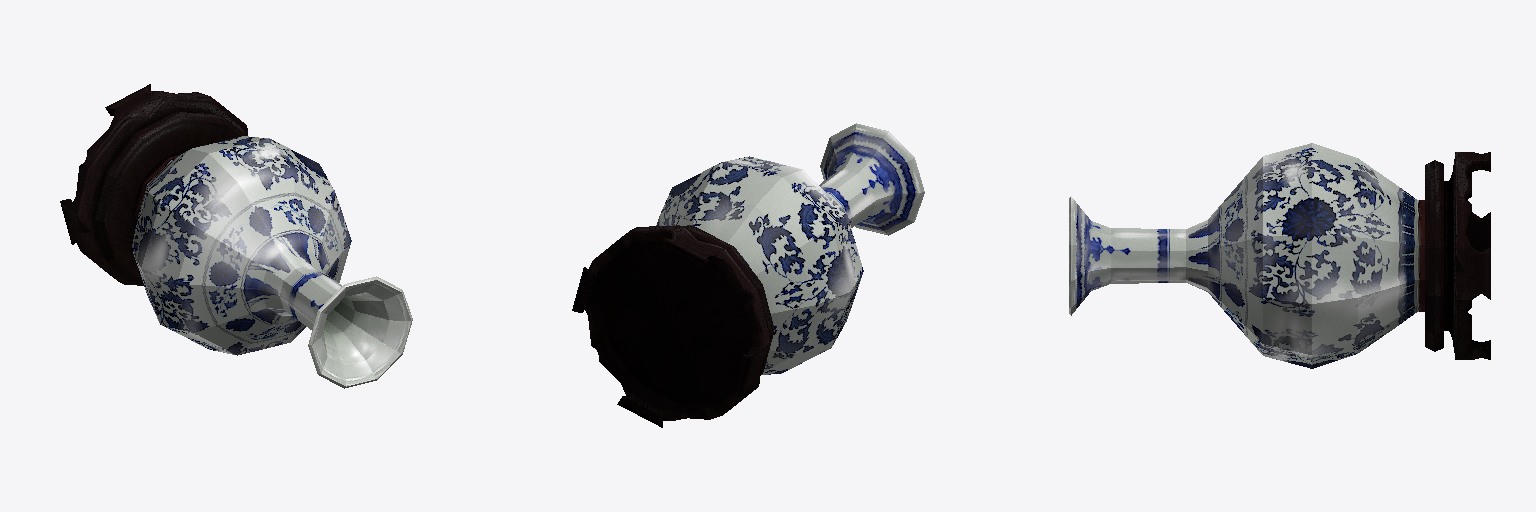
3 renders of one model, left to right at view 1: azimuth 30°, elevation 25°; view 2: azimuth 150°, elevation 25°; view 3: azimuth 270°, elevation 25°, orthographic.
Parts seen in each view (by area): view 1: Vase_Low, Base_Low; view 2: Vase_Low, Base_Low; view 3: Vase_Low, Base_Low.
Boxes of the visible parts, box(x1,y1,x2,y2) form: Vase_Low: box(132, 136, 412, 388); Base_Low: box(60, 84, 247, 285); Vase_Low: box(656, 123, 924, 374); Base_Low: box(572, 225, 773, 427); Vase_Low: box(1069, 143, 1424, 368); Base_Low: box(1425, 152, 1490, 359).
Size of the model in its own units: 19.92 by 18.94 by 36.9.
1 materials, 1 textured.